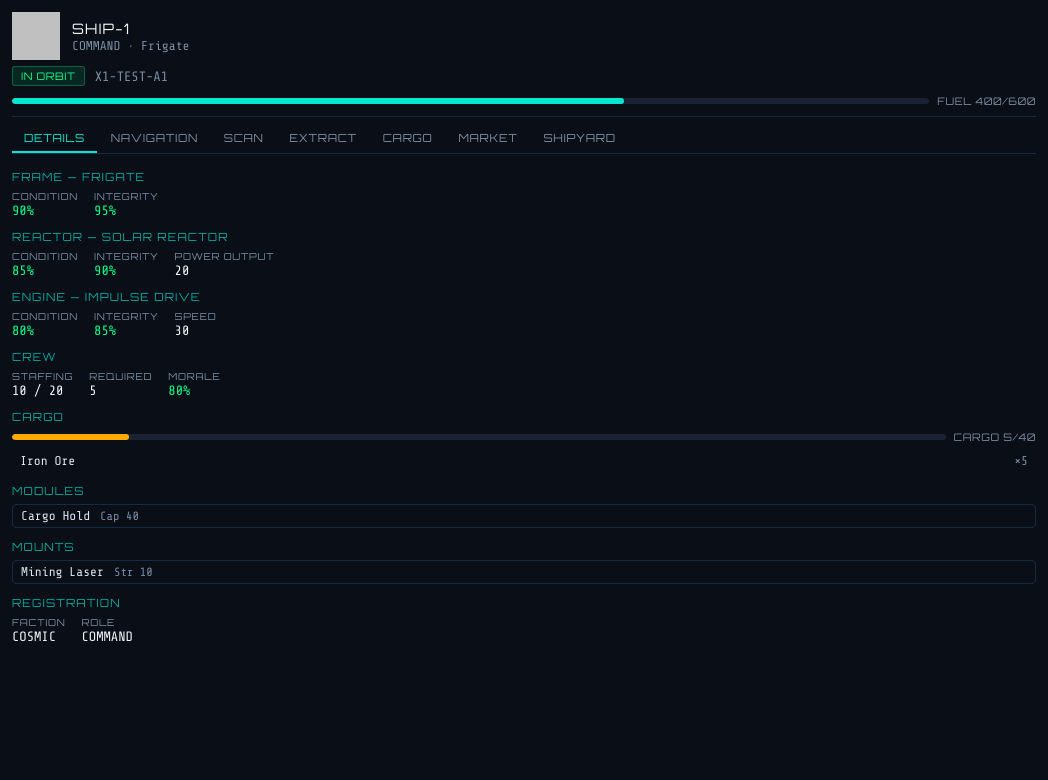
Test: FlightControl › switches to Navigation tab
Click the button "Navigation". click: (154, 139)
box: x1=99 y1=125 x2=210 y2=153
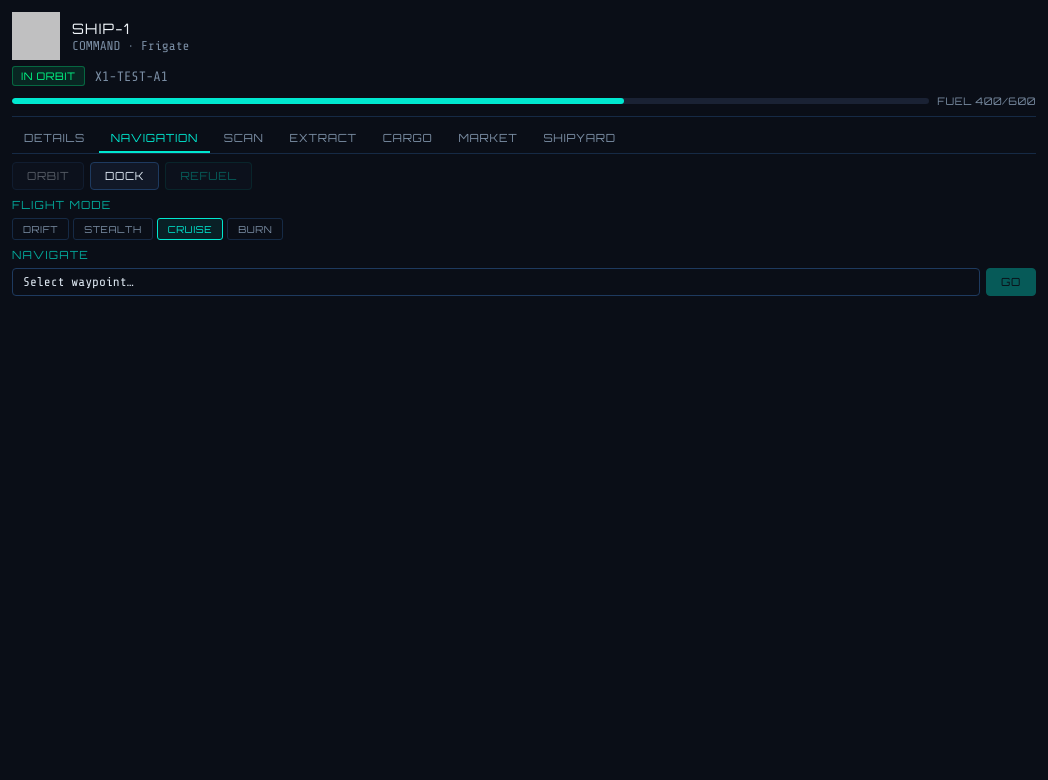
Now the button "Orbit" is shown, box x1=12 y1=162 x2=84 y2=190
Now the button "Dock" is shown, box x1=90 y1=162 x2=159 y2=190
Now the button "Refuel" is shown, box x1=166 y1=162 x2=252 y2=190
